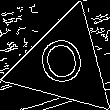O_S: (36, 33, 91, 94)
